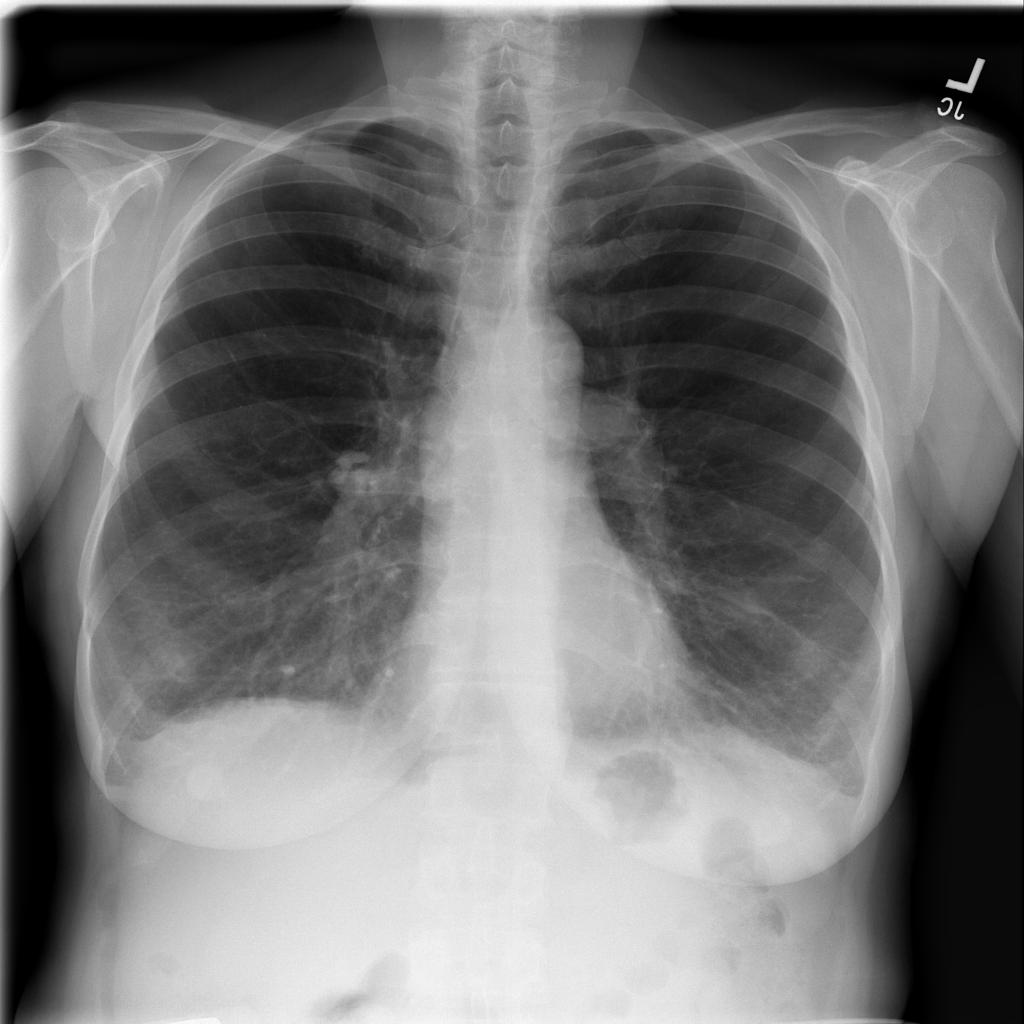nodule: (168, 749, 250, 816), (775, 623, 848, 695)
